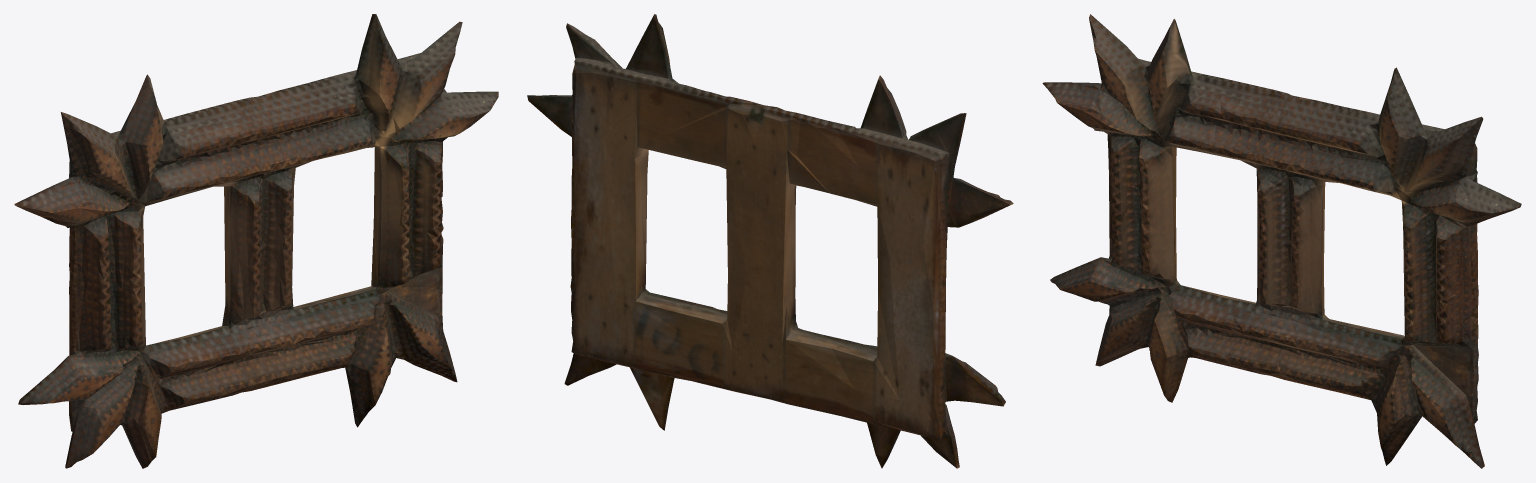
The model's file is 07BFA8F0-7ED8-0F4A-AE7B-BB147A7D98AD_512.glb.
The picture shows the model from 3 angles, left to right: view 1: azimuth 30°, elevation 25°; view 2: azimuth 150°, elevation 25°; view 3: azimuth 330°, elevation 25°; orthographic projection. The views are drawn at different scales.
Parts seen in each view (by area): view 1: Bilderrahmen 1_4k_0.5k; view 2: Bilderrahmen 1_4k_0.5k; view 3: Bilderrahmen 1_4k_0.5k.
Boxes of the visible parts, <box> form: Bilderrahmen 1_4k_0.5k: <box>14,14,498,468</box>; Bilderrahmen 1_4k_0.5k: <box>527,14,1013,468</box>; Bilderrahmen 1_4k_0.5k: <box>1042,14,1521,468</box>.
Bounding box in the file's own units: 0.3608 × 0.2926 × 0.0309.
1 material, 1 textured.
